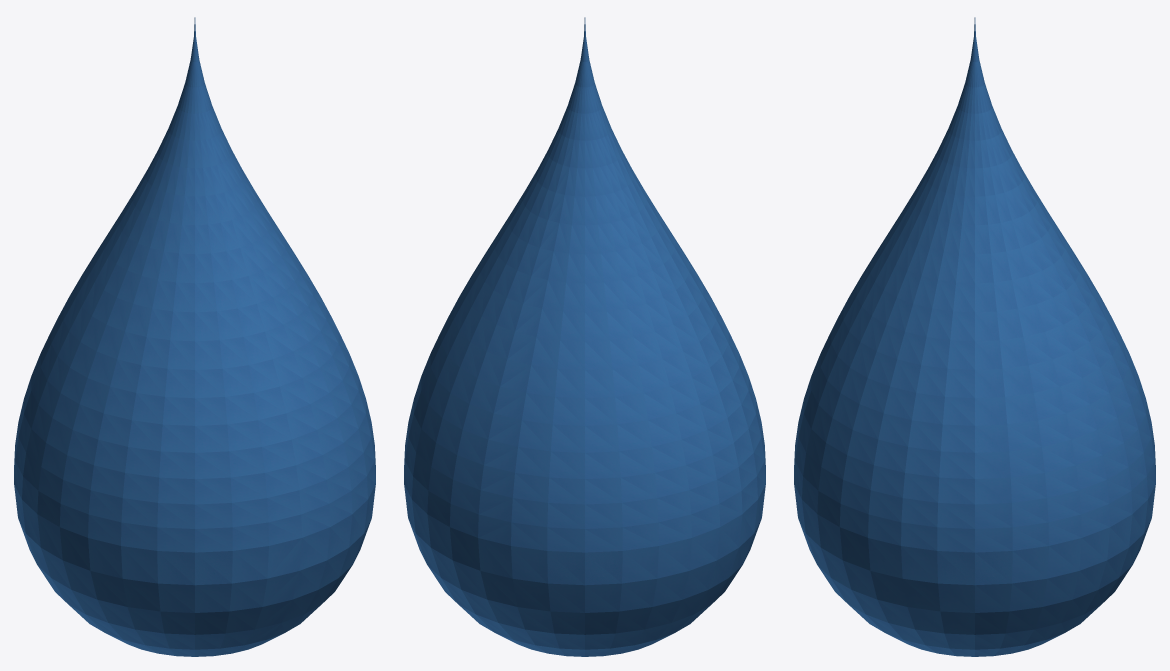
File: raindrop.obj
3 views of the same model, side by side, from view 1: azimuth 30°, elevation 25°; view 2: azimuth 150°, elevation 25°; view 3: azimuth 270°, elevation 25° (orthographic).
Visible parts, largest first — view 1: D075401B127744908F30Eb8037F87B7D; view 2: D075401B127744908F30Eb8037F87B7D; view 3: D075401B127744908F30Eb8037F87B7D.
Boxes of the visible parts, x1,y1,x2,y2 form: D075401B127744908F30Eb8037F87B7D: (14,17,375,656); D075401B127744908F30Eb8037F87B7D: (404,17,765,656); D075401B127744908F30Eb8037F87B7D: (794,17,1155,656).
Bounding box in the file's own units: 0.7202 × 1.37 × 0.7162.
1 material, 1 textured.
